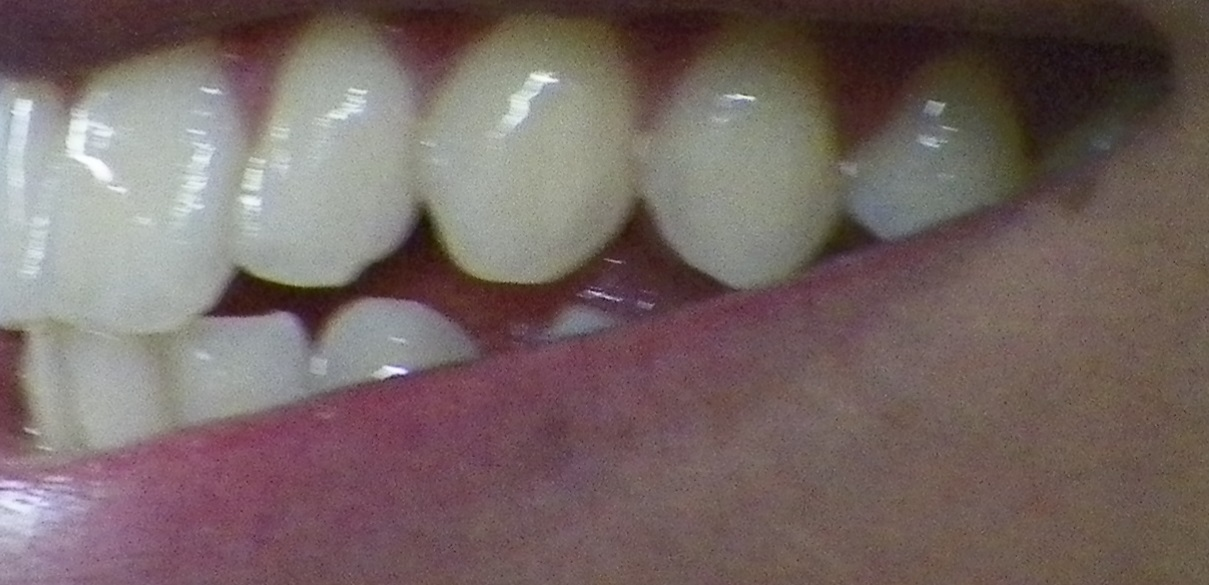boca: (4, 22, 1024, 456)
